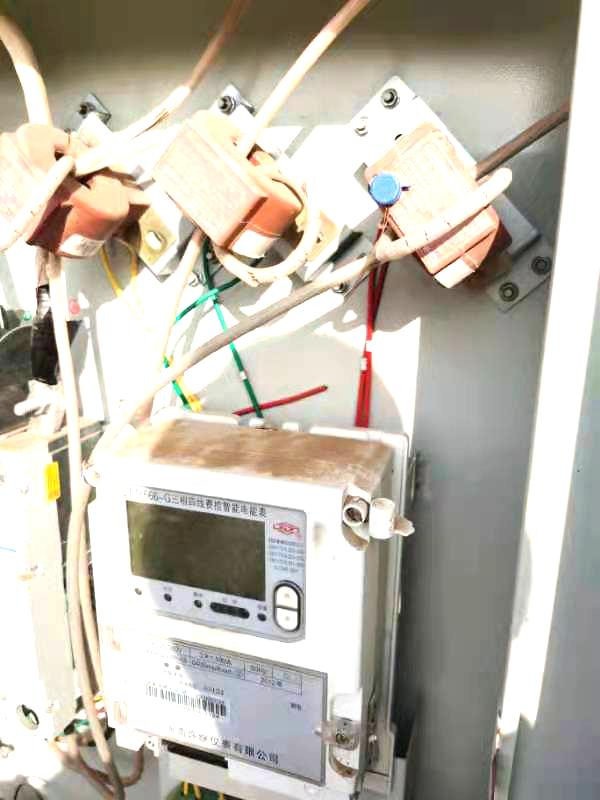digital: (90, 460, 354, 799)
